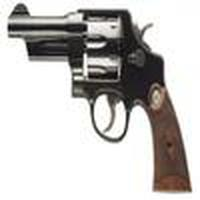gun: (6, 4, 195, 200)
